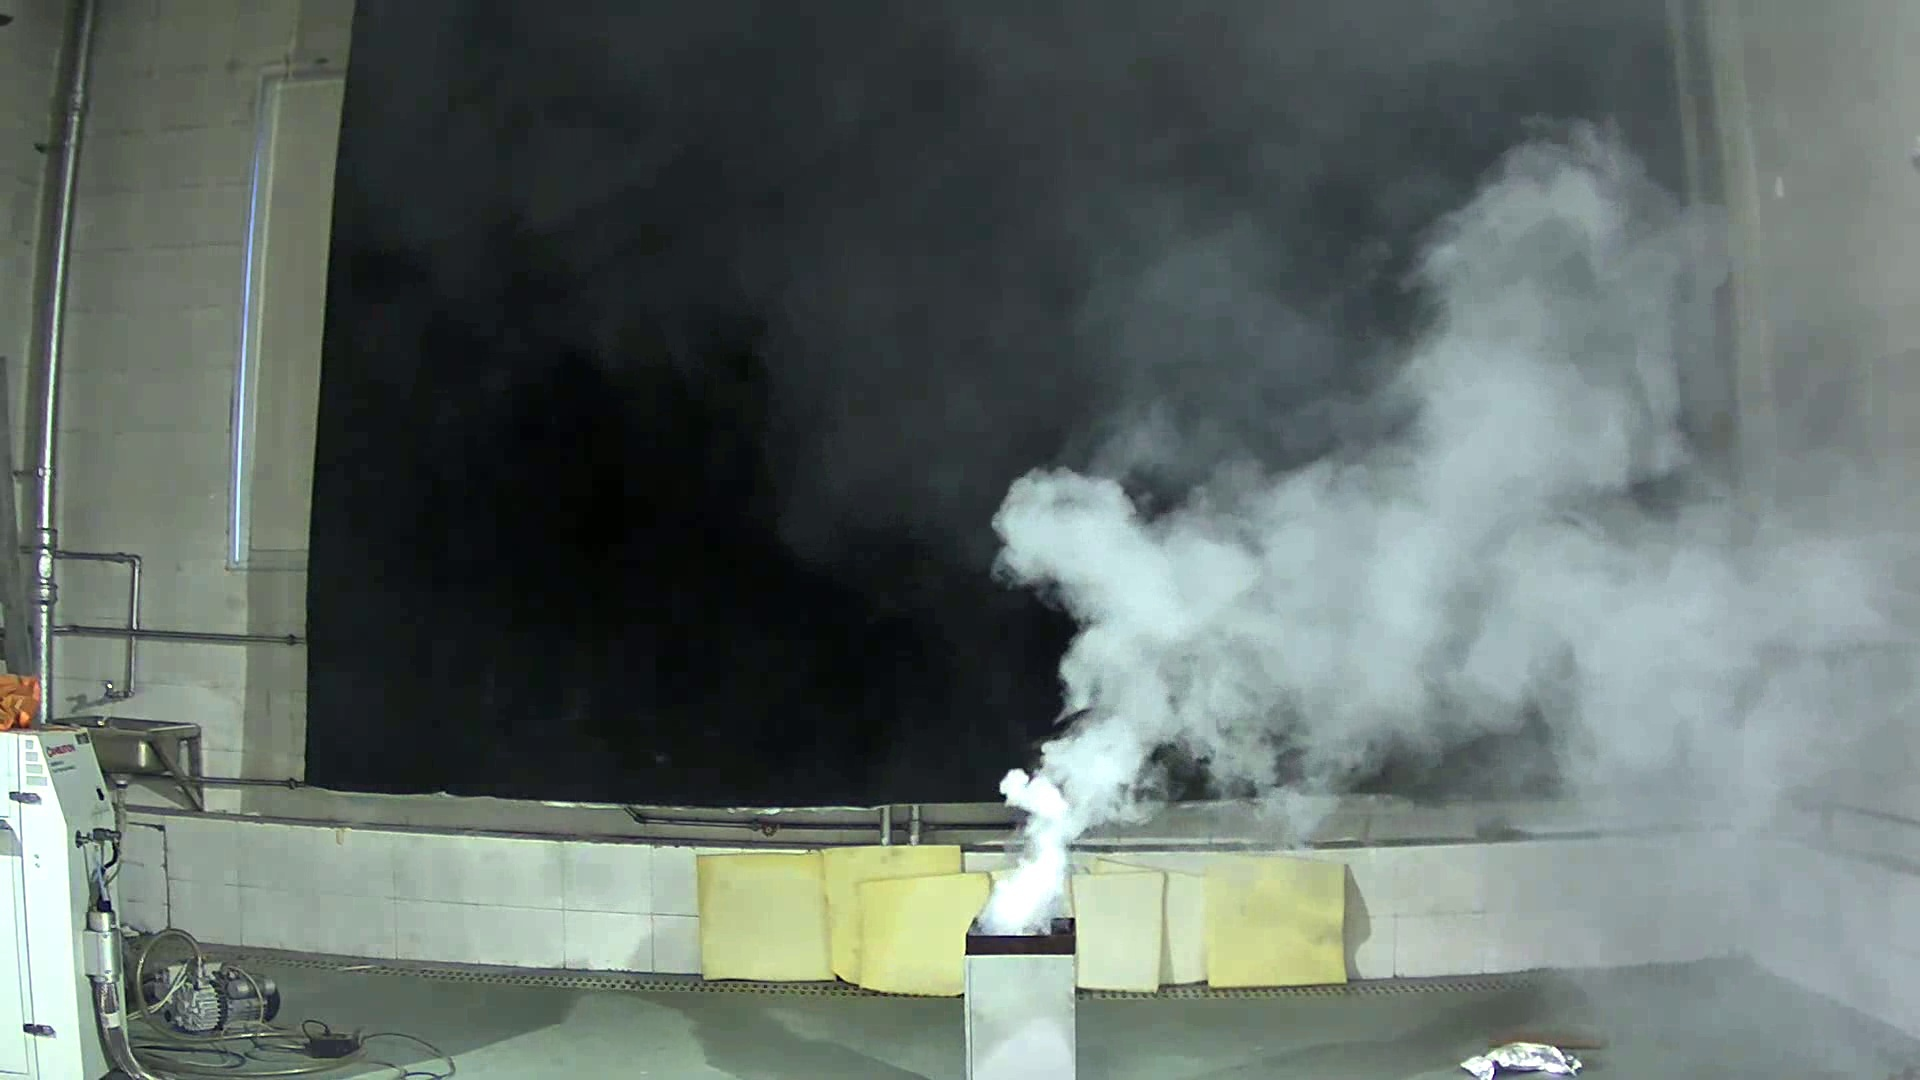smoke: (956, 111, 1842, 942)
